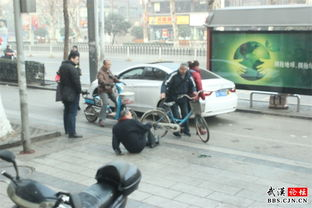fall: (106, 104, 164, 155)
